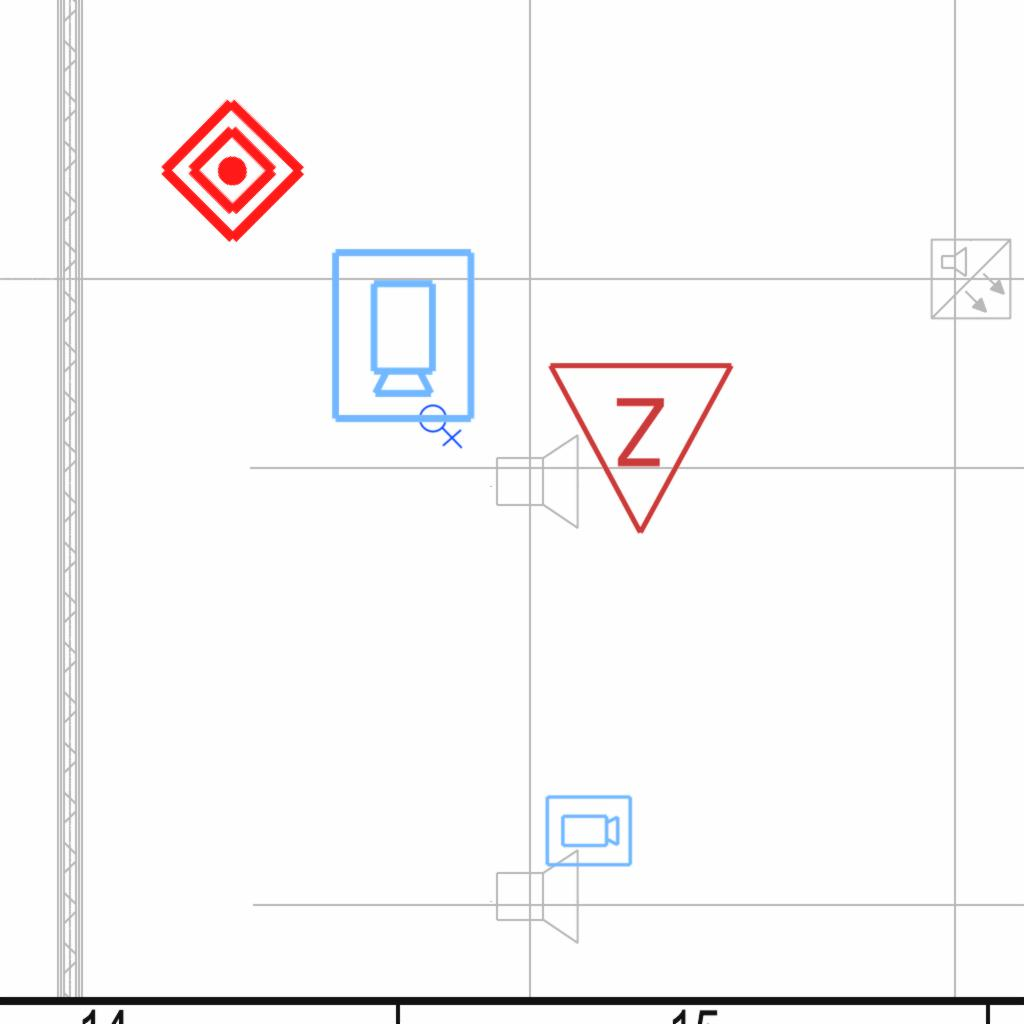Elektroanschluss_allgemein_230V_Geraeteanschlussdose_230V: (418, 400, 465, 449)
KFO_Kamera_mit_Festobjektiv: (325, 244, 479, 426), (543, 793, 634, 870)
NAM-Nichtautomatischer_Melder: (152, 90, 313, 251)
Zimmersignalleuchte: (545, 348, 741, 548)
